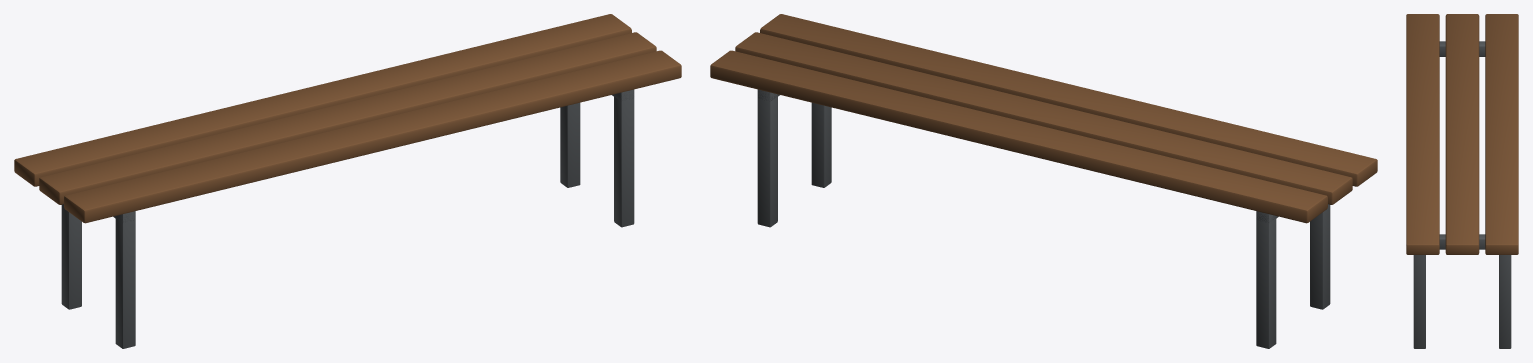
File: locker_bench.glb
3 renders of one model, left to right at view 1: azimuth 30°, elevation 25°; view 2: azimuth 150°, elevation 25°; view 3: azimuth 270°, elevation 25°, orthographic. The views are drawn at different scales.
Visible parts, largest first — view 1: locker_bench; view 2: locker_bench; view 3: locker_bench.
Part boxes in pixels (box(x1,y1,x2,y2)): locker_bench: box(14, 14, 681, 348); locker_bench: box(710, 14, 1377, 348); locker_bench: box(1406, 14, 1518, 348).
Bounding box in the file's own units: 1.8 × 0.44 × 0.37.
